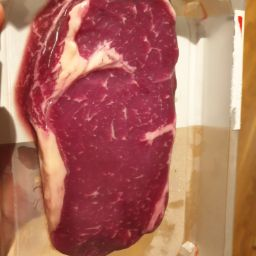Beef: (19, 17, 184, 256), (9, 1, 181, 212), (12, 75, 175, 256)
